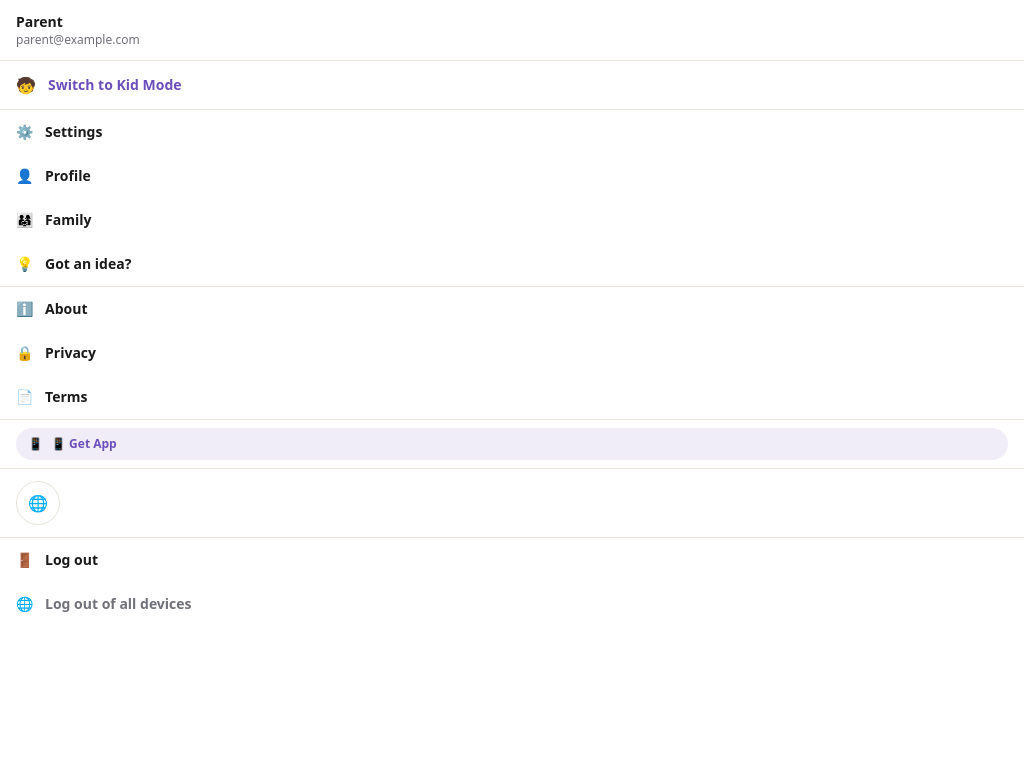
it: UserMenuItems › cancel closes the dialog without signing out
The width and height of the screenshot is (1024, 768).
Click the button "🌐 Log out of all devices" at [118, 604], box [0,582,1023,626]
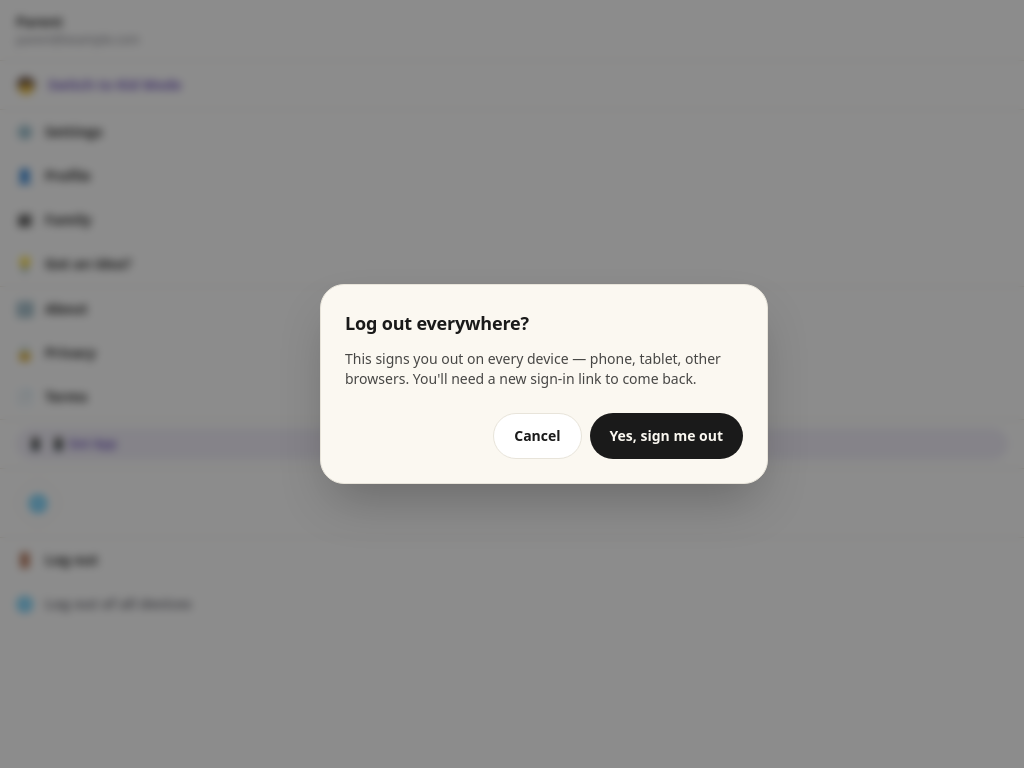
Click the button "Cancel" at [537, 436], box [493,413,582,459]
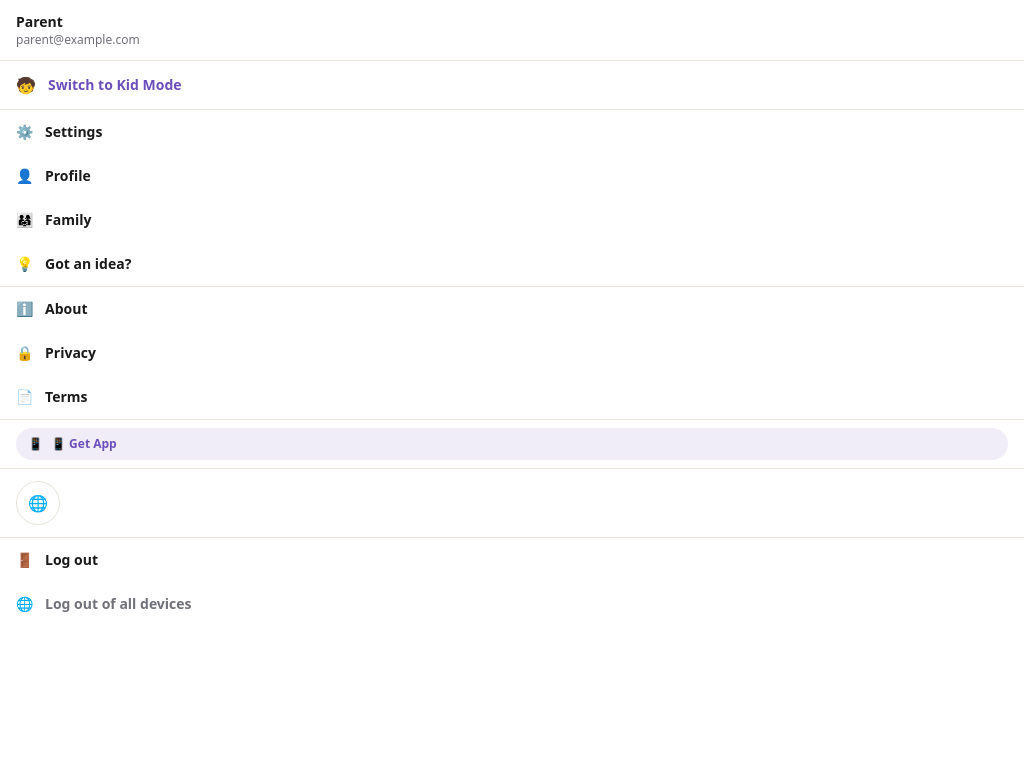
Expected: the dialog is gone
